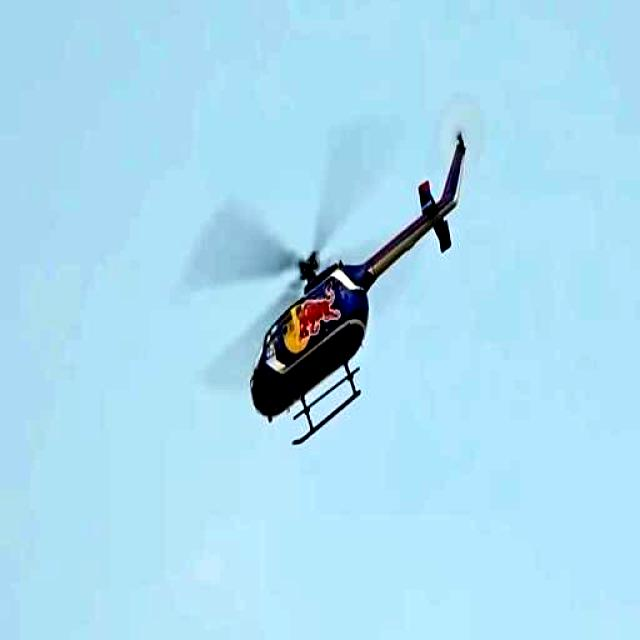drone: (240, 128, 481, 452)
